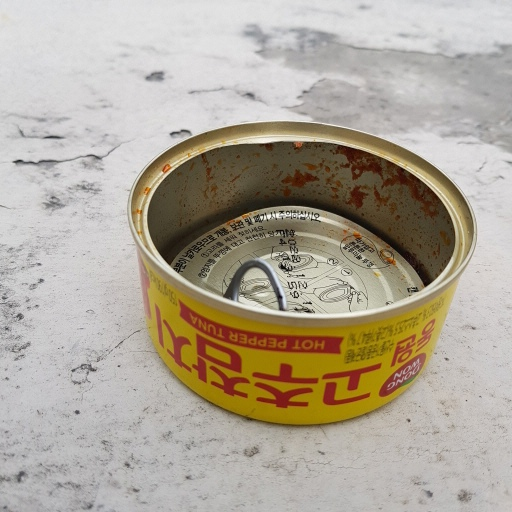Metal_1: (123, 115, 480, 427)
